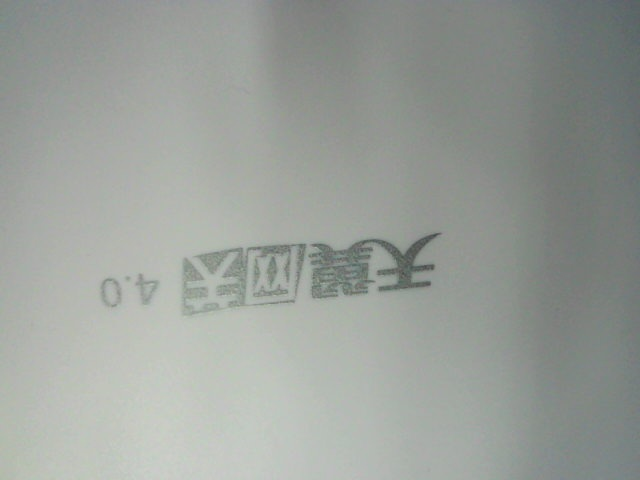BM_TianYiWangGuan: (78, 219, 446, 315)
